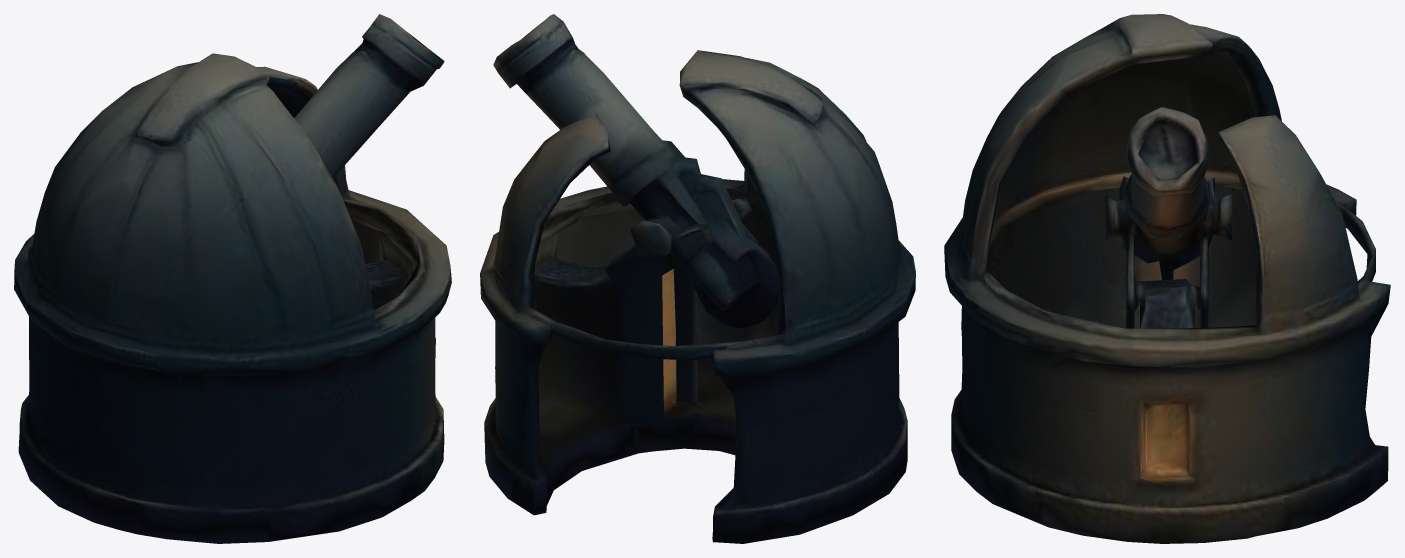
File: 3d-obserwatorium.glb
3 views of the same model, side by side, from view 1: azimuth 30°, elevation 25°; view 2: azimuth 150°, elevation 25°; view 3: azimuth 270°, elevation 25° (orthographic). The views are drawn at different scales.
Parts seen in each view (by area): view 1: tripo_node_9dd7d07c-58bc-4370-8569-9a224ca49815; view 2: tripo_node_9dd7d07c-58bc-4370-8569-9a224ca49815; view 3: tripo_node_9dd7d07c-58bc-4370-8569-9a224ca49815.
Boxes of the visible parts, x1,y1,x2,y2 form: tripo_node_9dd7d07c-58bc-4370-8569-9a224ca49815: (14, 14, 451, 543); tripo_node_9dd7d07c-58bc-4370-8569-9a224ca49815: (480, 14, 915, 543); tripo_node_9dd7d07c-58bc-4370-8569-9a224ca49815: (944, 14, 1390, 543).
Size of the model in its own units: 1 by 0.9758 by 0.9374.
1 material, 1 textured.
